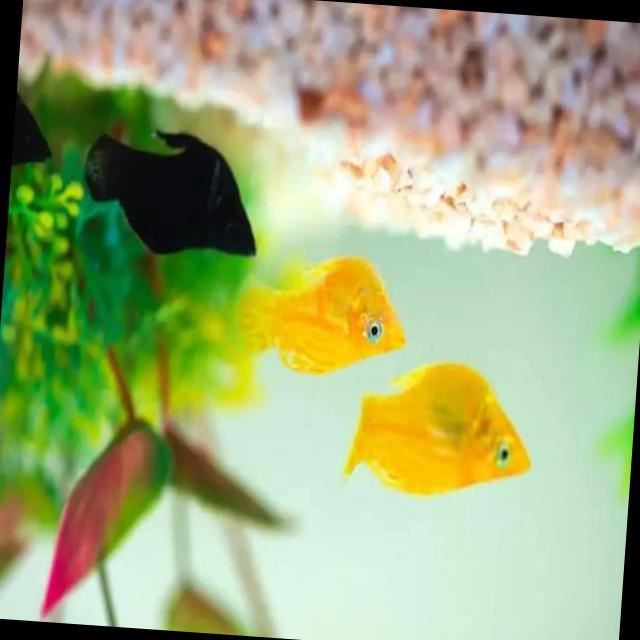PlatyFish: (344, 352, 541, 513), (223, 240, 416, 386)
